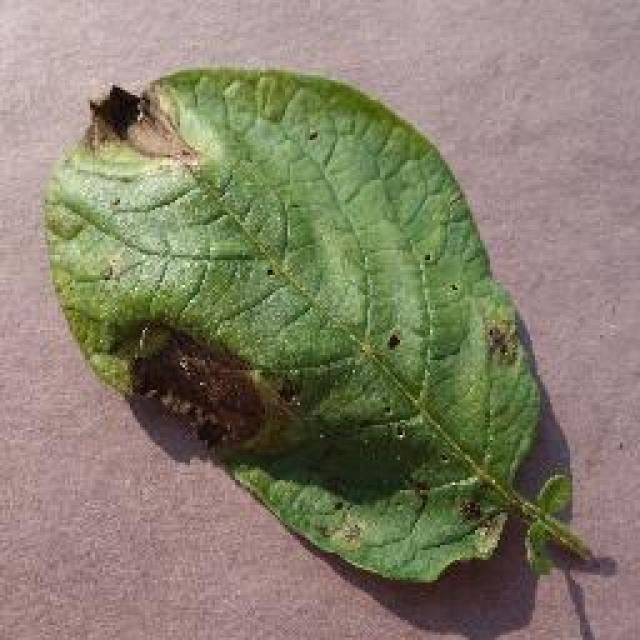late_blight: (38, 60, 588, 588)
